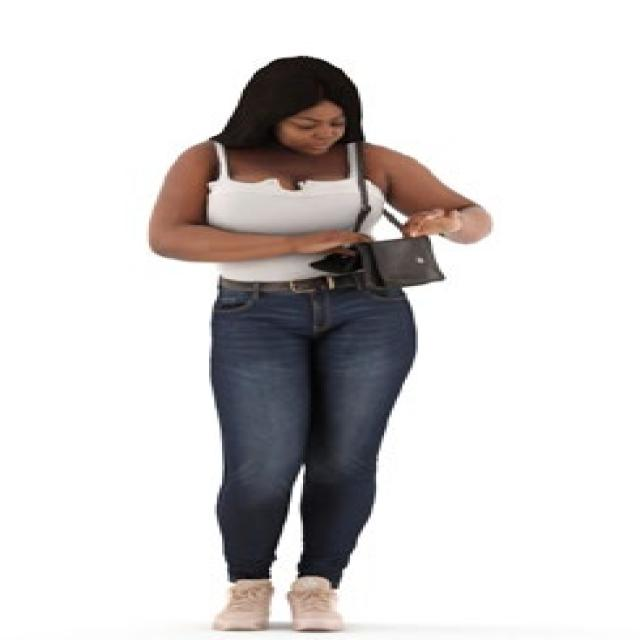standing: (138, 51, 504, 640)
